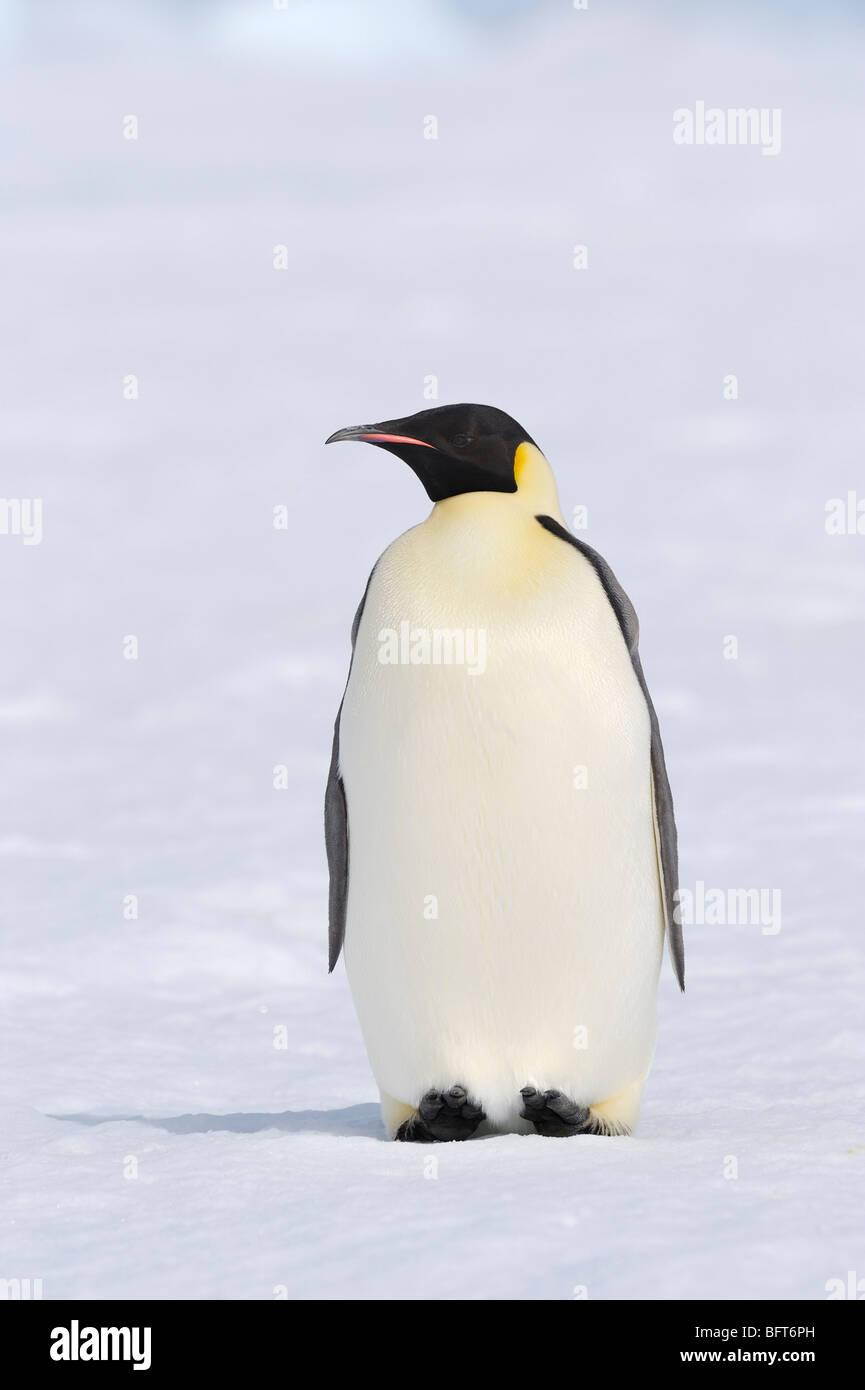emporer: (241, 383, 731, 1182)
